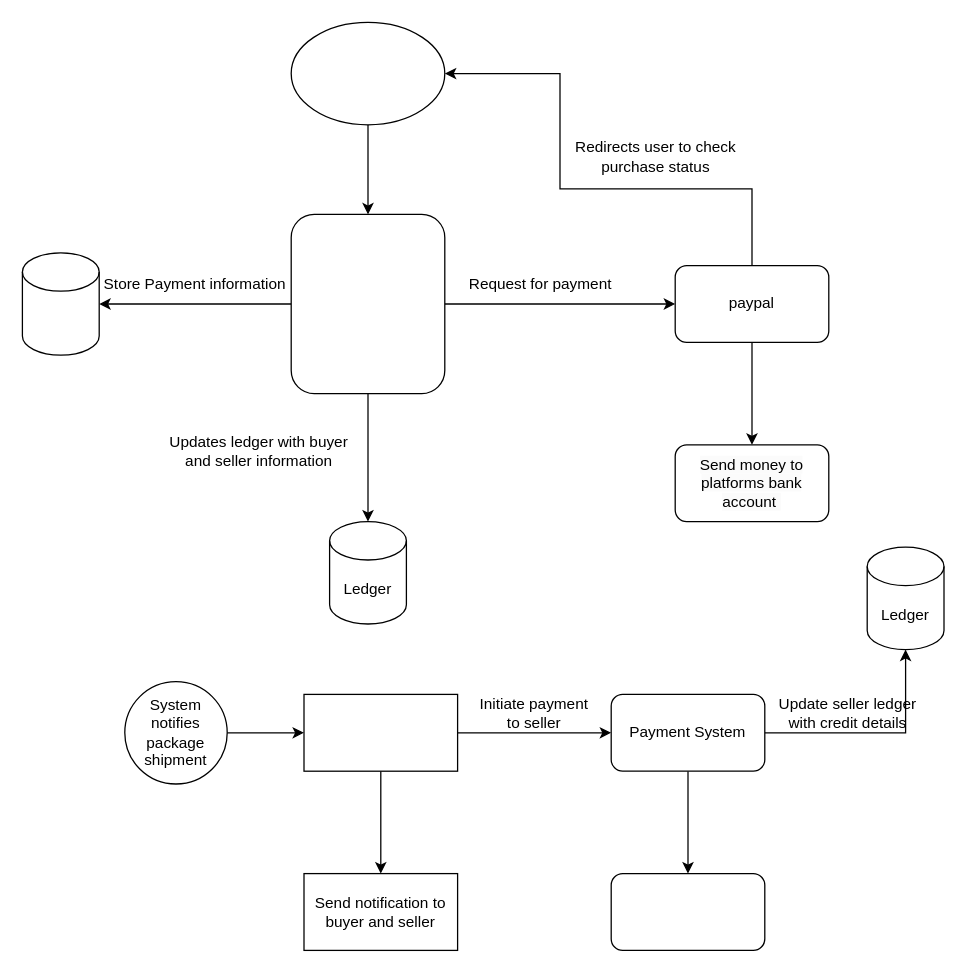
Image size: 966x973. Some labels were removed from this diagram. Each missing label, with the centre of its shape:
Fulfilment system: point 380,732
Payment Gateway Page User enter all the details of his card: point 367,303
Seller: point 367,73
Seller bank account credited: point 687,911
